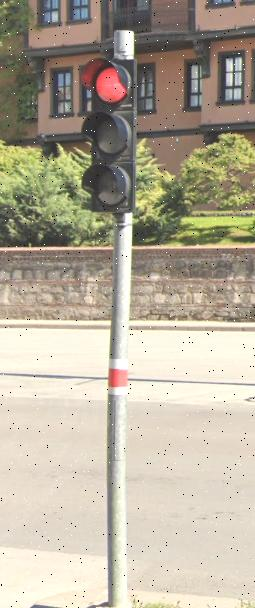redlight: (81, 57, 137, 206)
